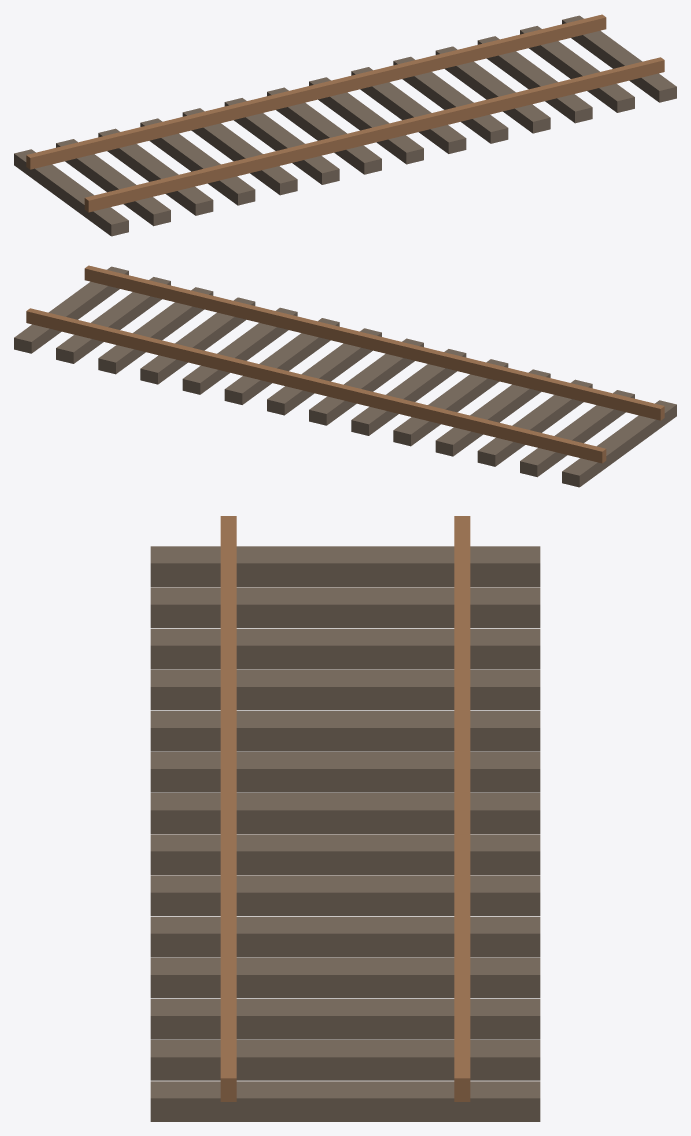
File: RailSection.glb
3 views of the same model, one above another, from view 1: azimuth 30°, elevation 25°; view 2: azimuth 150°, elevation 25°; view 3: azimuth 270°, elevation 25° (orthographic). The views are drawn at different scales.
Visible parts, largest first — view 1: Rail, Rail.001, Tie, Tie.002, Tie.004, Tie.008, Tie.009, Tie.003, Tie.010, Tie.011, Tie.005, Tie.006 (+4 smaller); view 2: Rail.001, Rail, Tie, Tie.002, Tie.004, Tie.008, Tie.009, Tie.003, Tie.010, Tie.011, Tie.005, Tie.006 (+4 smaller); view 3: Tie.013, Tie.002, Tie.003, Tie.009, Tie.010, Tie, Tie.001, Tie.004, Tie.005, Tie.006, Tie.007, Tie.008 (+4 smaller).
Boxes of the visible parts, bbox=[...] form: Rail: bbox=[84, 57, 664, 212]; Rail.001: bbox=[26, 14, 606, 169]; Tie: bbox=[14, 149, 128, 236]; Tie.002: bbox=[98, 128, 213, 215]; Tie.004: bbox=[182, 108, 297, 195]; Tie.008: bbox=[351, 67, 466, 153]; Tie.009: bbox=[393, 56, 508, 143]; Tie.003: bbox=[140, 118, 255, 205]; Tie.010: bbox=[435, 46, 550, 133]; Tie.011: bbox=[477, 36, 592, 123]; Tie.005: bbox=[224, 98, 339, 184]; Tie.006: bbox=[267, 87, 381, 174]; Rail.001: bbox=[26, 308, 606, 463]; Rail: bbox=[84, 265, 664, 420]; Tie: bbox=[562, 400, 676, 487]; Tie.002: bbox=[477, 379, 592, 466]; Tie.004: bbox=[393, 359, 508, 446]; Tie.008: bbox=[224, 318, 339, 404]; Tie.009: bbox=[182, 307, 297, 394]; Tie.003: bbox=[435, 369, 550, 456]; Tie.010: bbox=[140, 297, 255, 384]; Tie.011: bbox=[98, 287, 213, 374]; Tie.005: bbox=[351, 349, 466, 435]; Tie.006: bbox=[309, 338, 423, 425]; Tie.013: bbox=[150, 1081, 540, 1121]; Tie.002: bbox=[150, 628, 540, 669]; Tie.003: bbox=[150, 669, 540, 710]; Tie.009: bbox=[150, 916, 540, 957]; Tie.010: bbox=[150, 957, 540, 998]; Tie: bbox=[150, 546, 540, 586]; Tie.001: bbox=[150, 587, 540, 627]; Tie.004: bbox=[150, 711, 540, 751]; Tie.005: bbox=[150, 752, 540, 792]; Tie.006: bbox=[150, 793, 540, 833]; Tie.007: bbox=[150, 834, 540, 874]; Tie.008: bbox=[150, 875, 540, 915].
Size of the model in its own units: 8.2 by 0.33 by 2.4.
